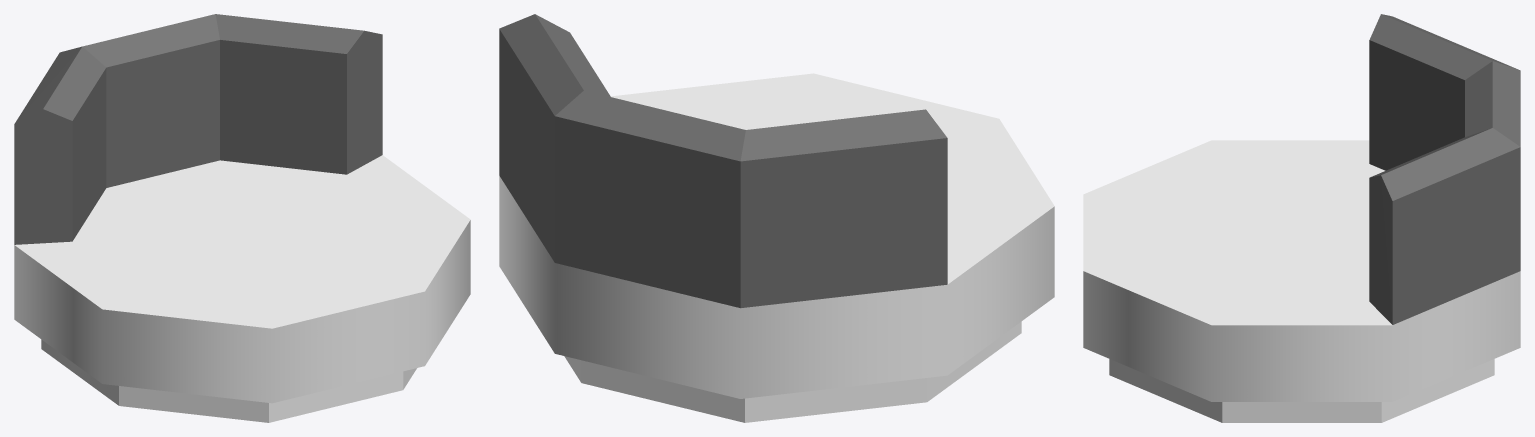
The model's file is Itr_Barchair_Seat_03.FBX.
The picture shows the model from 3 angles, left to right: view 1: azimuth 30°, elevation 25°; view 2: azimuth 150°, elevation 25°; view 3: azimuth 270°, elevation 25°; orthographic projection. The views are drawn at different scales.
Parts seen in each view (by area): view 1: Itr_Barchair_Seat_03; view 2: Itr_Barchair_Seat_03; view 3: Itr_Barchair_Seat_03.
Boxes of the visible parts, bbox=[...] form: Itr_Barchair_Seat_03: bbox=[14, 14, 470, 422]; Itr_Barchair_Seat_03: bbox=[499, 14, 1054, 422]; Itr_Barchair_Seat_03: bbox=[1083, 14, 1520, 422].
Bounding box in the file's own units: 16.37 × 10.19 × 16.37.
